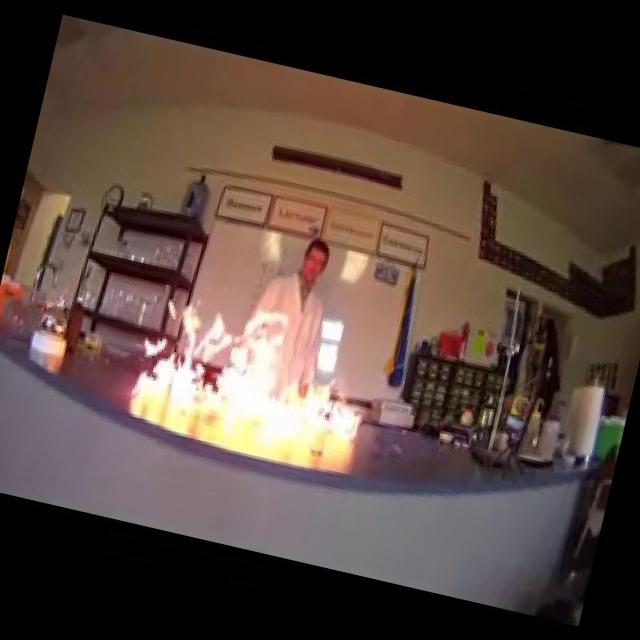Fire: (120, 280, 386, 460)
